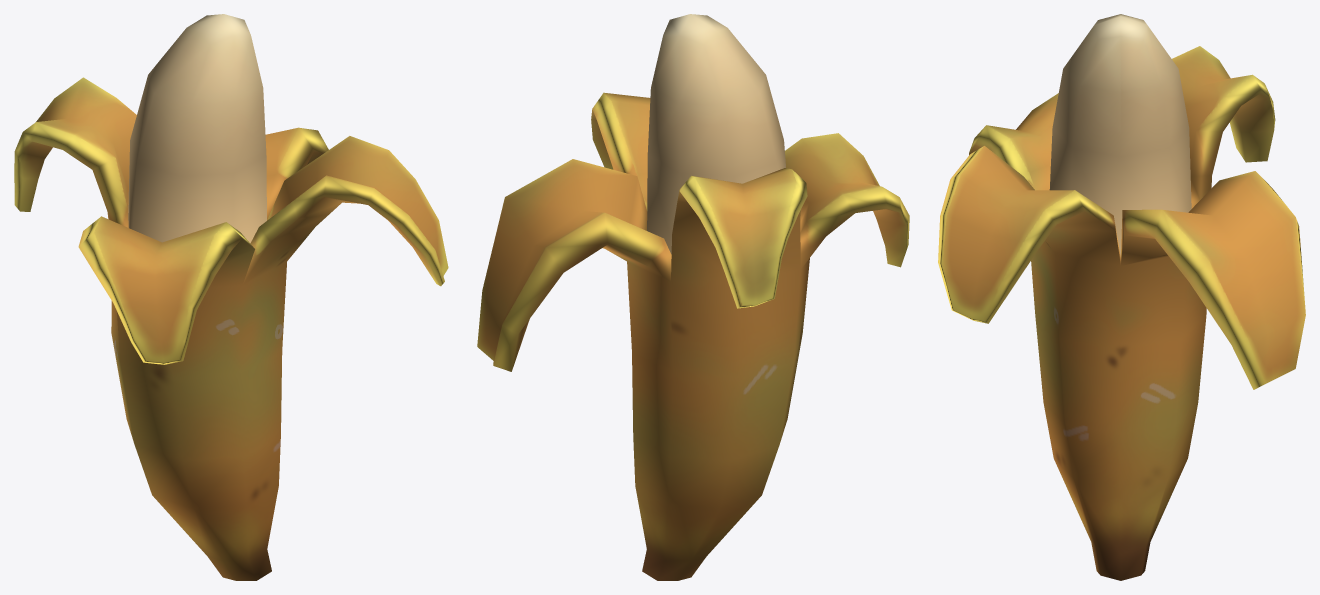
Rendered from Bannana_Full.fbx.
3 renders of one model, left to right at view 1: azimuth 30°, elevation 25°; view 2: azimuth 150°, elevation 25°; view 3: azimuth 270°, elevation 25°, orthographic. The views are drawn at different scales.
Visible parts, largest first — view 1: Bannana_Full; view 2: Bannana_Full; view 3: Bannana_Full.
Boxes of the visible parts, box(x1,y1,x2,y2) form: Bannana_Full: box(14, 14, 448, 580); Bannana_Full: box(477, 14, 909, 580); Bannana_Full: box(938, 14, 1305, 580).
Size of the model in its own units: 1205 by 2017 by 1219.
